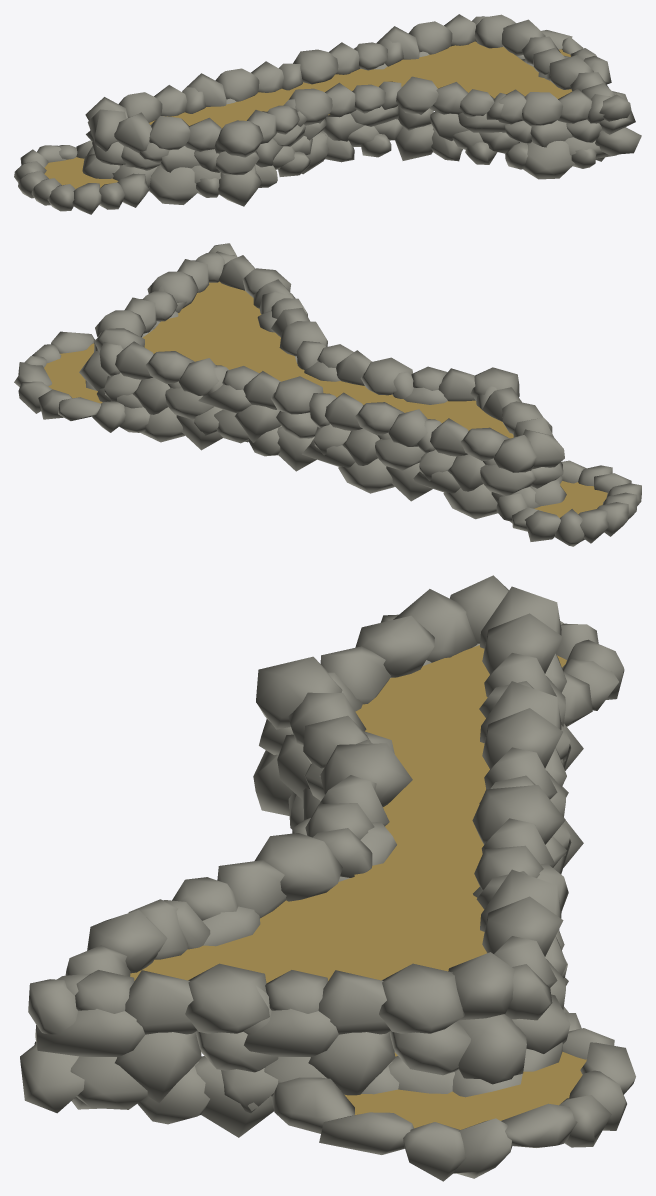
3 renders of one model, top to bottom at view 1: azimuth 30°, elevation 25°; view 2: azimuth 150°, elevation 25°; view 3: azimuth 270°, elevation 25°, orthographic. The views are drawn at different scales.
Visible parts, largest first — view 1: SM_B_10; view 2: SM_B_10; view 3: SM_B_10.
Boxes of the visible parts, <box> form: SM_B_10: <box>14,14,641,214</box>; SM_B_10: <box>14,243,641,546</box>; SM_B_10: <box>20,575,635,1181</box>.
Size of the model in its own units: 753 by 103 by 357.
